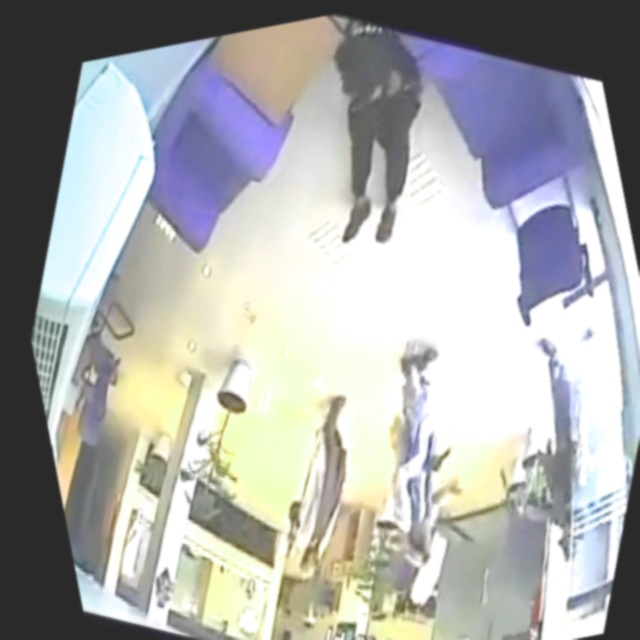gun: (417, 435, 462, 487), (276, 528, 303, 564)
